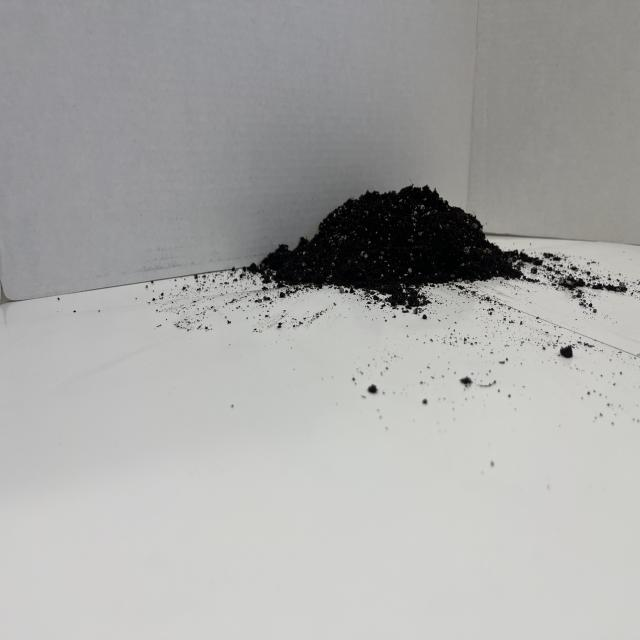soil: (246, 180, 524, 296)
